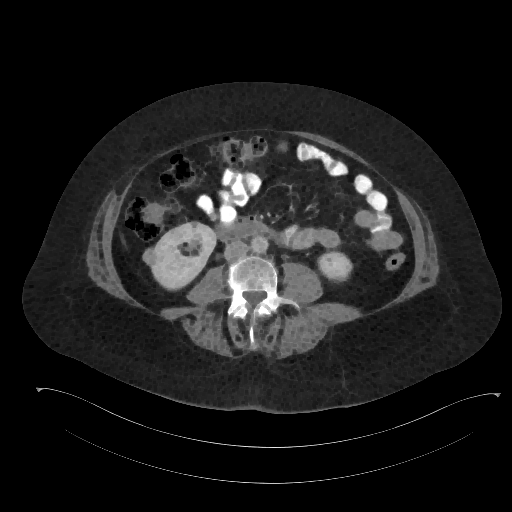Lesion: (140, 247, 158, 269)
